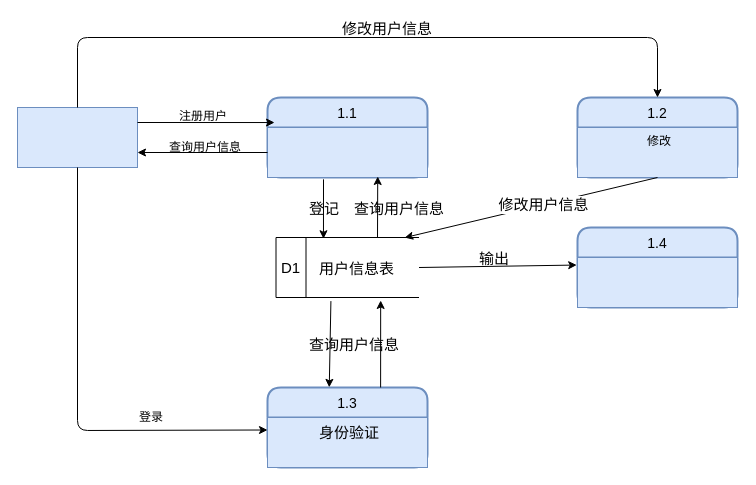
This 756x485 diagram has some shape labels left out. Here are the shapes that lost their labels. From the top down, the box of each, then its label:
(16, 106, 138, 168): 用户
(266, 126, 428, 178): 注册
(576, 256, 738, 308): 打印客户信息
